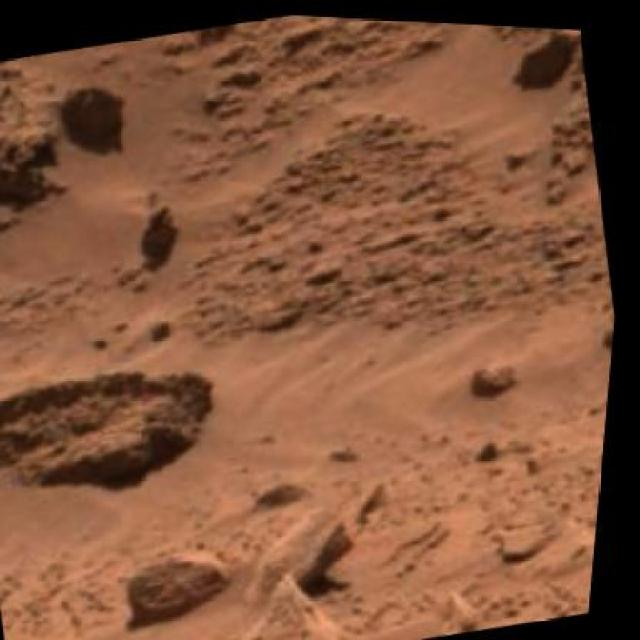rock: (0, 345, 237, 510), (124, 537, 256, 626), (0, 63, 22, 252)
